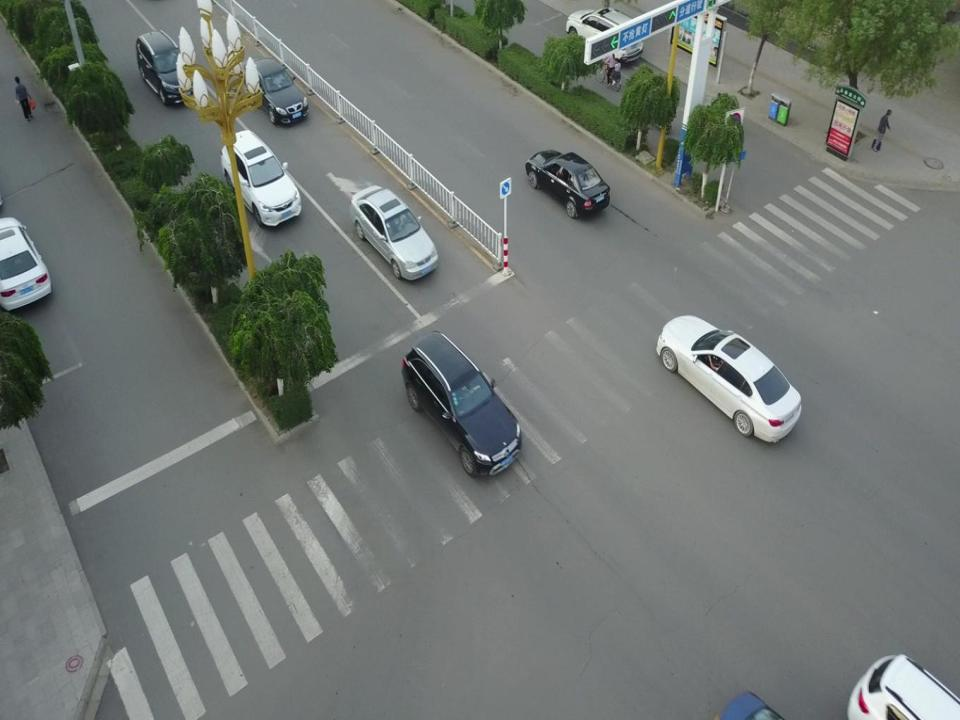car: (659, 312, 802, 442), (402, 331, 520, 471), (352, 185, 439, 282), (839, 651, 960, 717), (218, 132, 300, 225), (526, 149, 609, 217), (0, 215, 51, 321), (135, 30, 195, 106), (568, 8, 644, 65), (251, 56, 308, 124)
